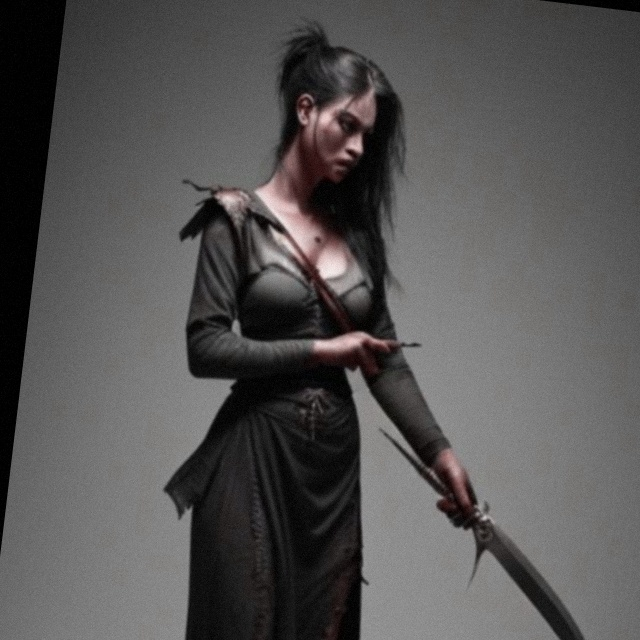Sharp-Object: (347, 422, 636, 640)
